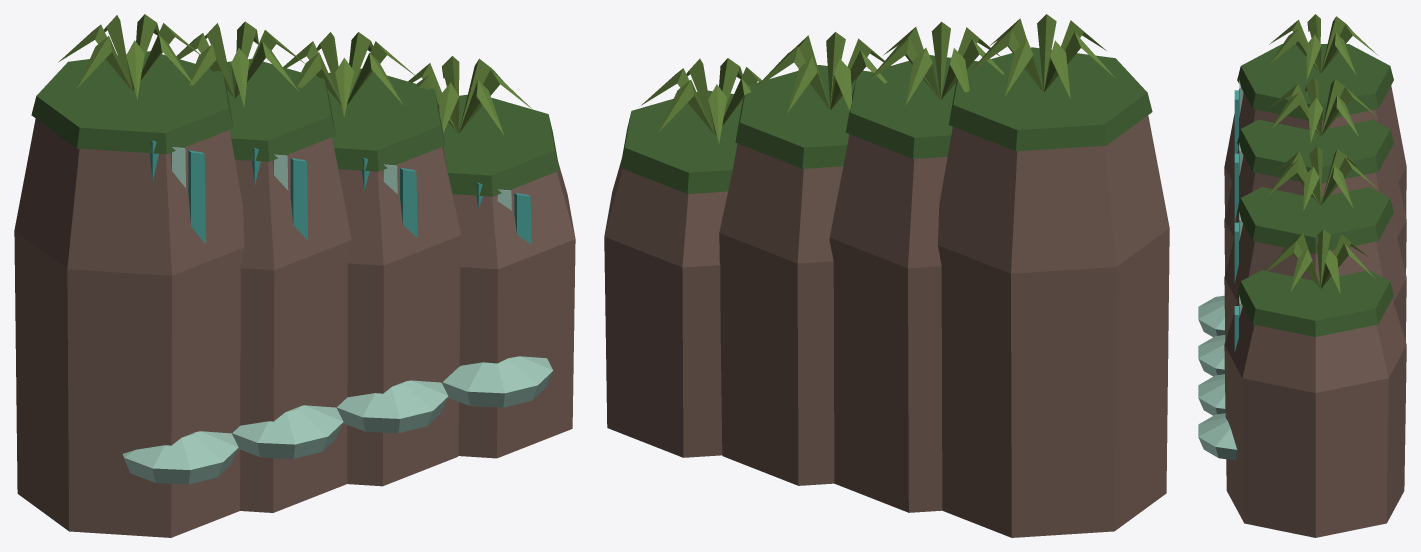
File: rainfall.glb
The picture shows the model from 3 angles, left to right: view 1: azimuth 30°, elevation 25°; view 2: azimuth 150°, elevation 25°; view 3: azimuth 270°, elevation 25°; orthographic projection. The views are drawn at different scales.
Parts seen in each view (by area): view 1: rainfall; view 2: rainfall; view 3: rainfall.
Boxes of the visible parts, bbox=[...] form: rainfall: bbox=[14, 14, 575, 537]; rainfall: bbox=[604, 14, 1169, 537]; rainfall: bbox=[1198, 14, 1406, 537].
Size of the model in its own units: 13.56 by 11.34 by 6.06.
